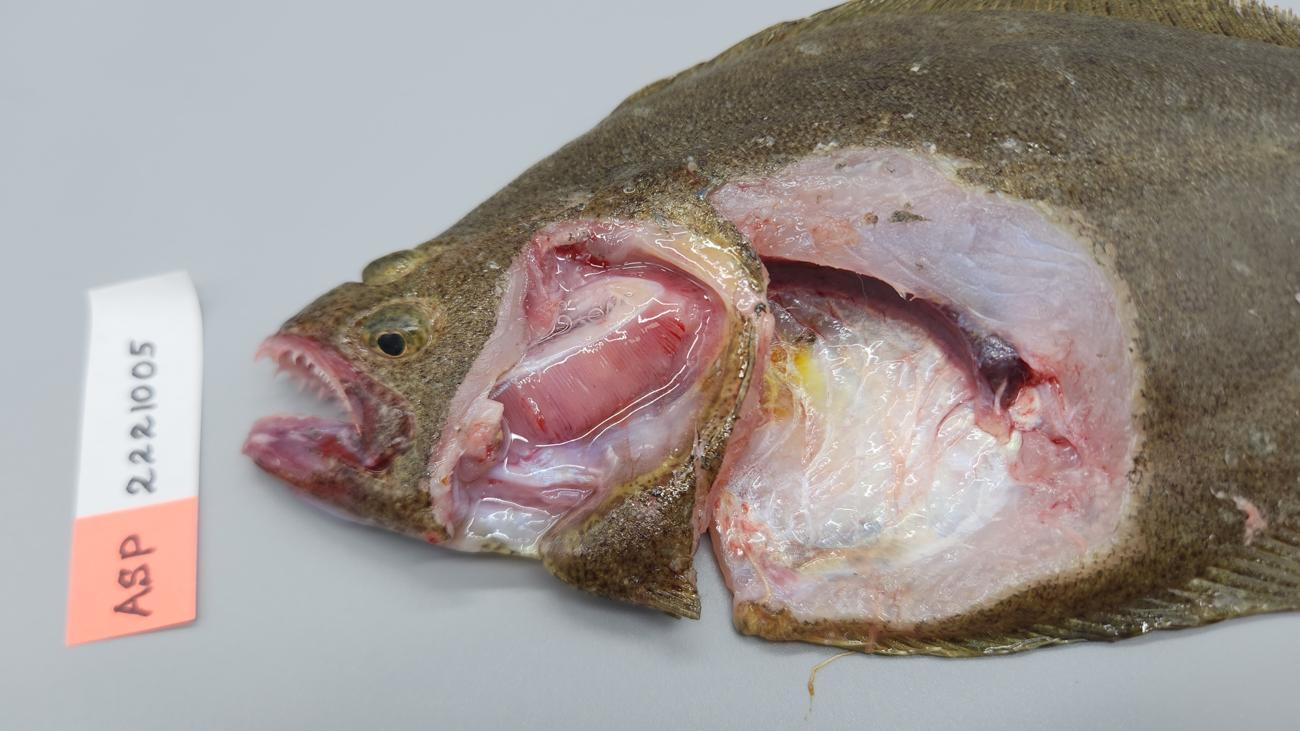SPASQ: (713, 289, 1021, 578)
